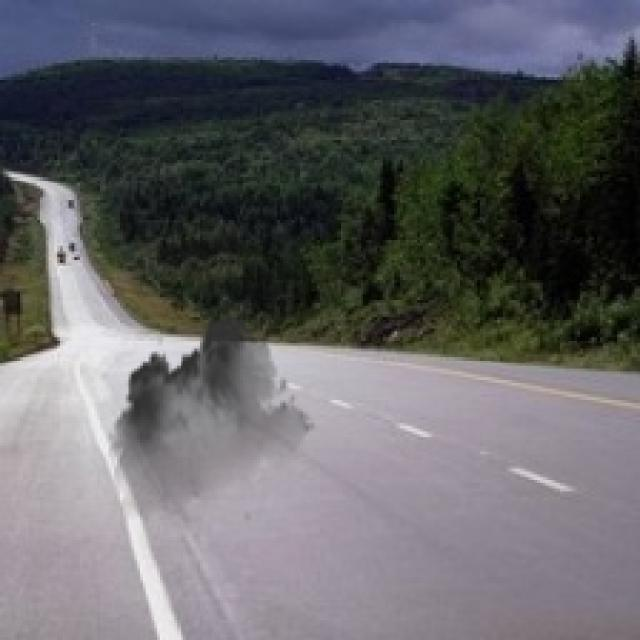smoke: (109, 306, 317, 534)
